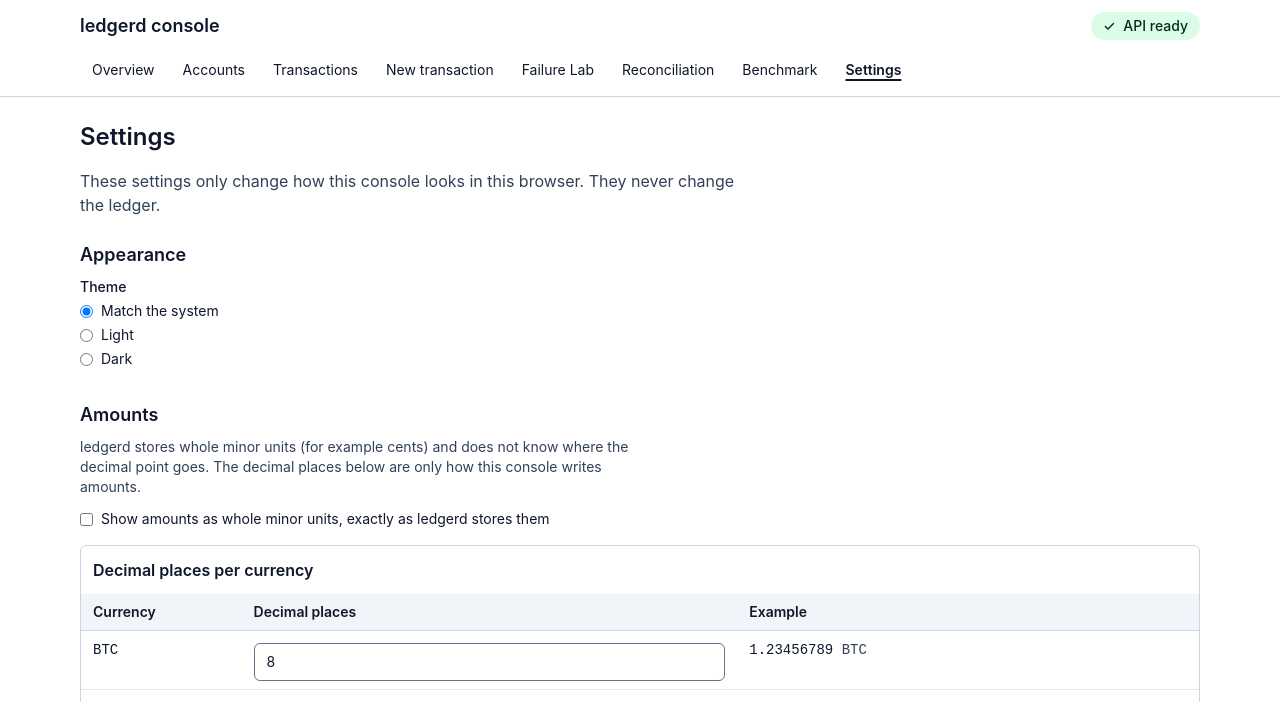
Test: Settings: amounts › shows whole minor units when asked
This screenshot has width=1280, height=702.
Expected: the heading "Settings" is shown, [80,121,176,153]
Click the checkbox labelled "whole minor units": (86, 519) [80,512,93,526]
(page scrolled)
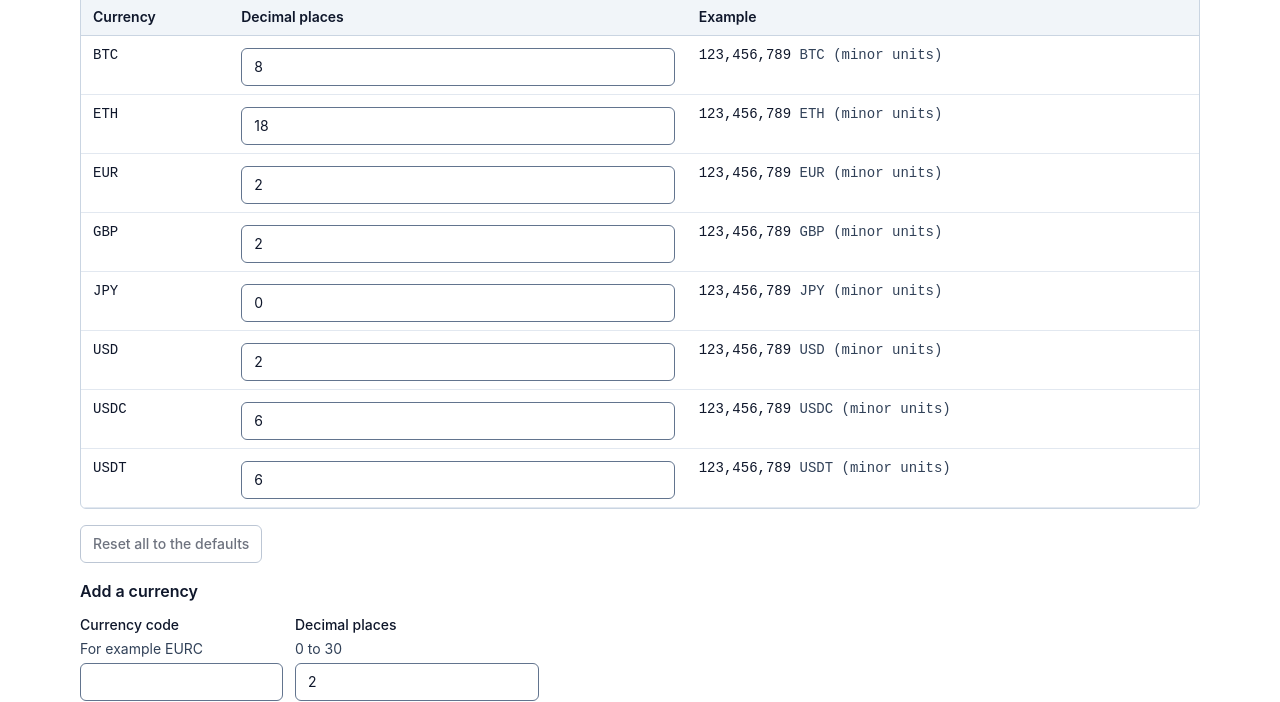
Expected: the row named "Decimal places for USD" shows "123,456,789 USD (minor units)", [81,330,1199,390]
